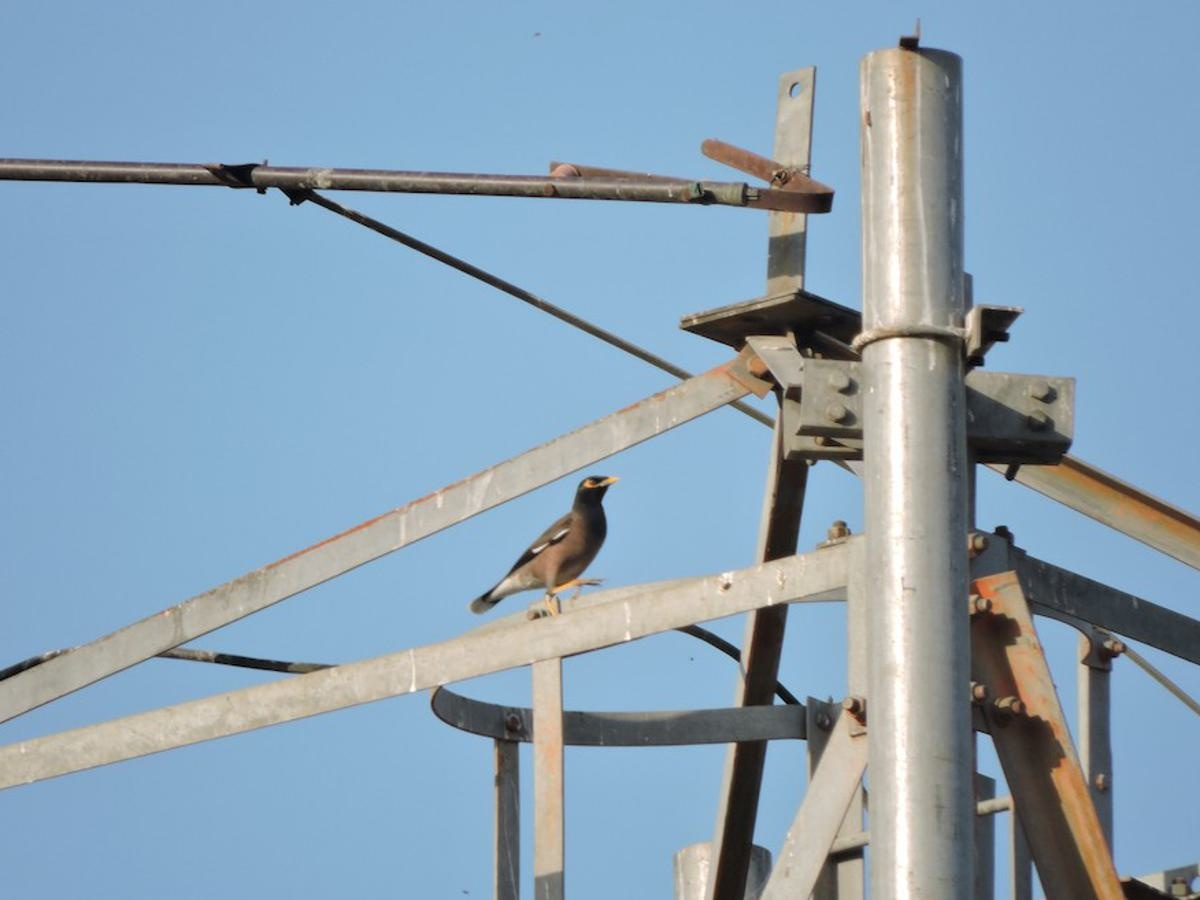myna: (487, 450, 636, 672)
